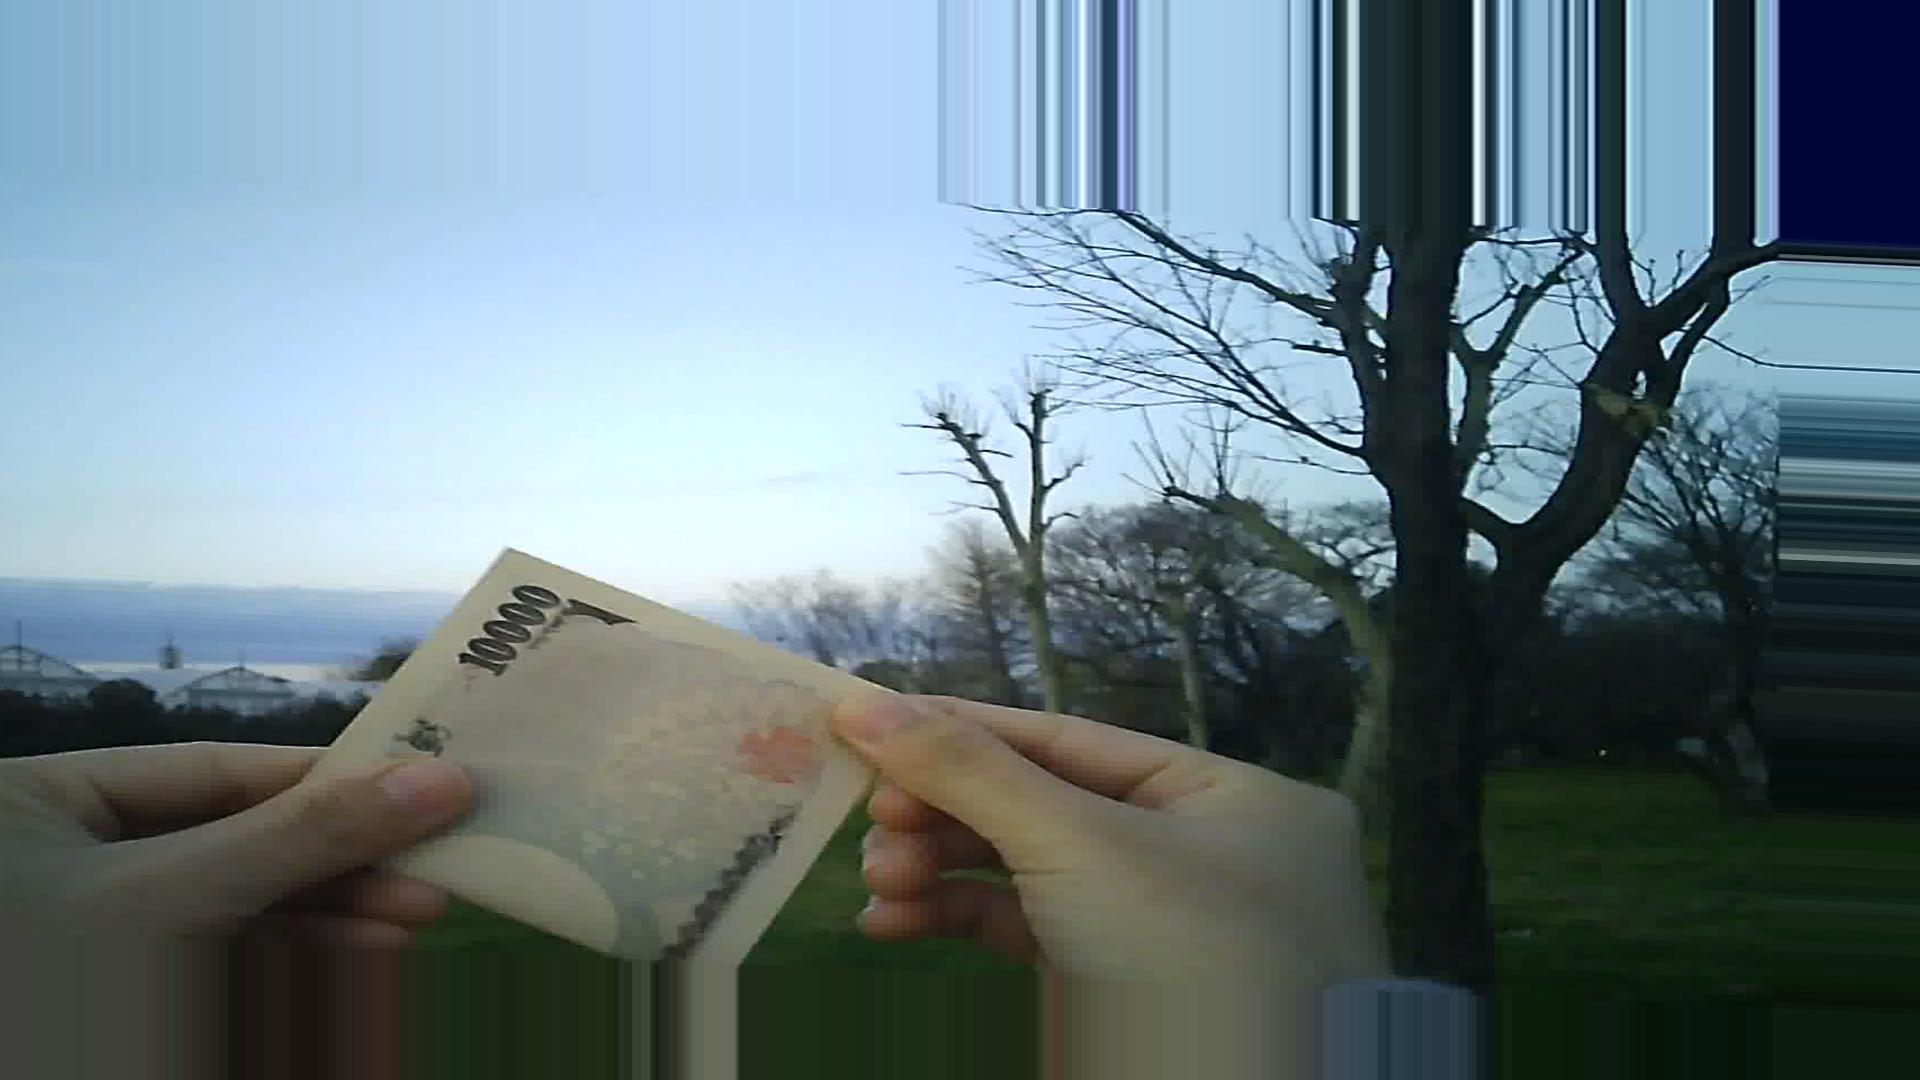10,000 Yen: (334, 551, 895, 971)
